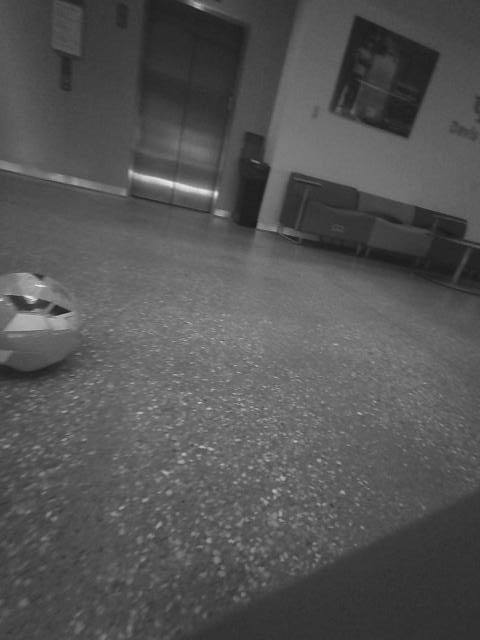ball: (2, 267, 80, 375)
